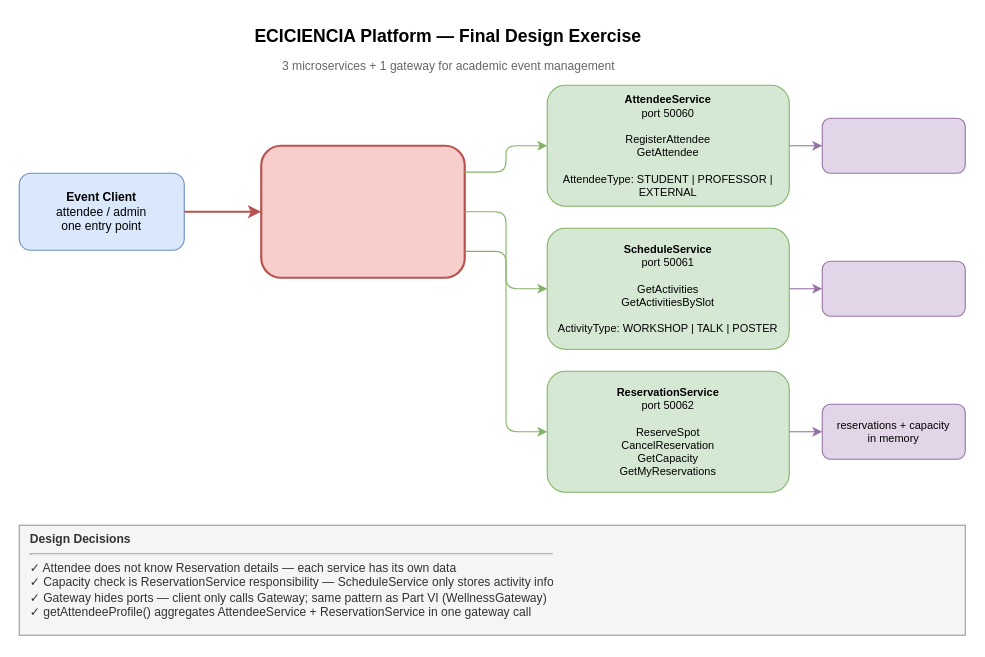
The diagram is 985 pixels wide and 657 high, and some of its shapes have lost their labels. The shapes that lost their labels are listed below. From the top down, each one's box as (x1, y1, x2, y2) in pixels, then its label:
(821, 117, 965, 173): attendee data in memory
(260, 144, 465, 278): EcicienciaGateway routes to 3 services aggregates responses
(821, 260, 965, 316): activity data time slots, locations
